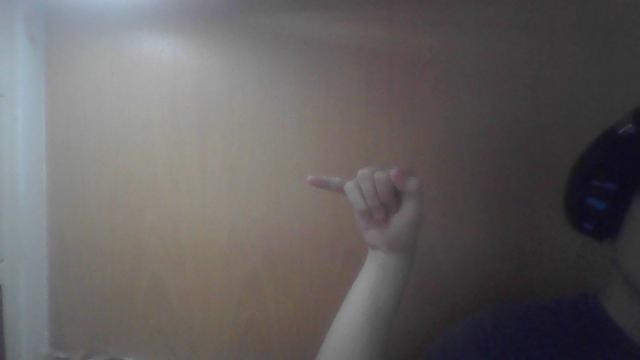Right: (302, 163, 432, 241)
